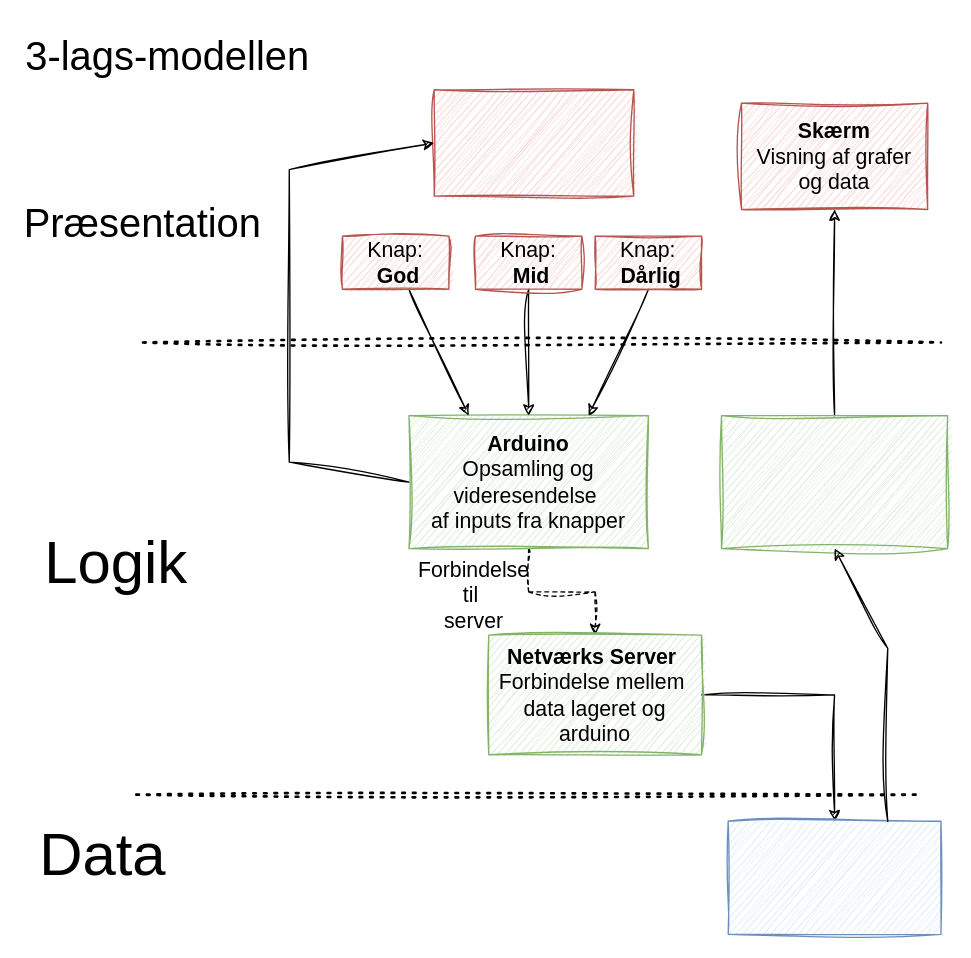
Some shapes in this 971 by 958 pixel diagram are drawn without their labels. The shapes that lost their labels are listed below. From the top down, each one's centre as x and y in pixels, then its label:
At pixel 533 142: "LCD - skærm Status raport fra arduino til bla. error handling".
At pixel 834 481: "Computer Bearbejdning af data og udregning af grafik".
At pixel 834 877: "Data lager Sd kort, hardrive... etc.".
